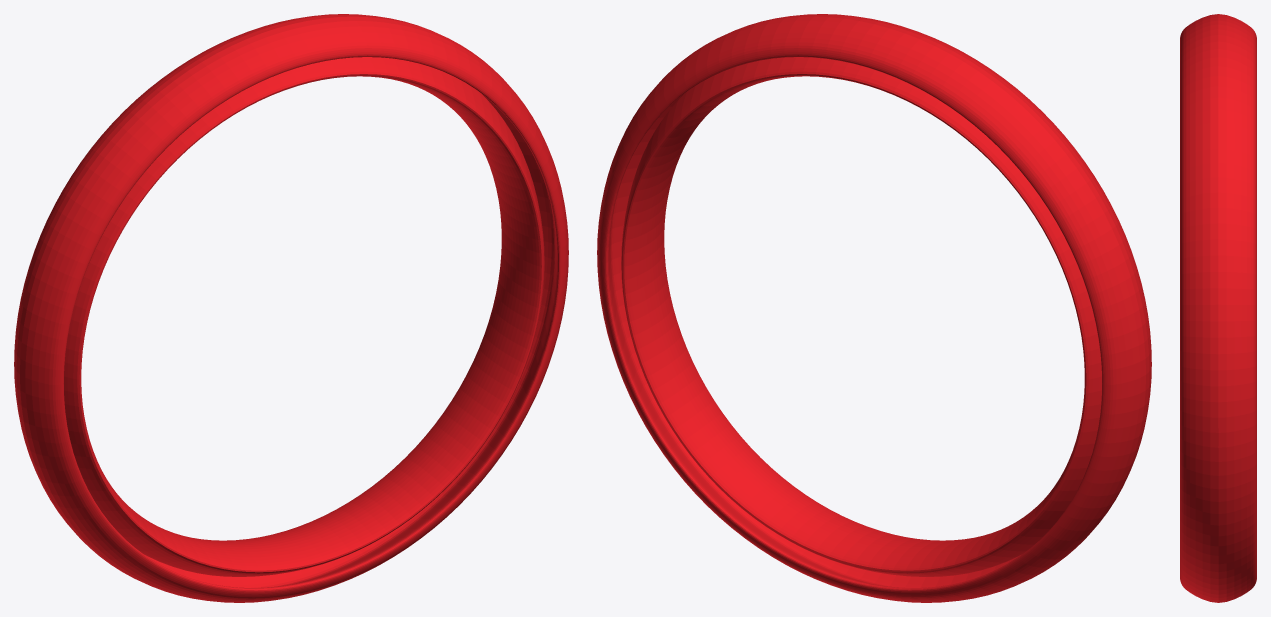
File: 3DTargetRing.glb
3 views of the same model, side by side, from view 1: azimuth 30°, elevation 25°; view 2: azimuth 150°, elevation 25°; view 3: azimuth 270°, elevation 25° (orthographic). The views are drawn at different scales.
Visible parts, largest first — view 1: node_id57; view 2: node_id57; view 3: node_id57.
Boxes of the visible parts, x1,y1,x2,y2 form: node_id57: (14, 14, 568, 602); node_id57: (597, 14, 1151, 602); node_id57: (1180, 14, 1256, 602).
Size of the model in its own units: 0.512 by 0.512 by 0.0667.
Materials: 1 (1 with a texture image).
